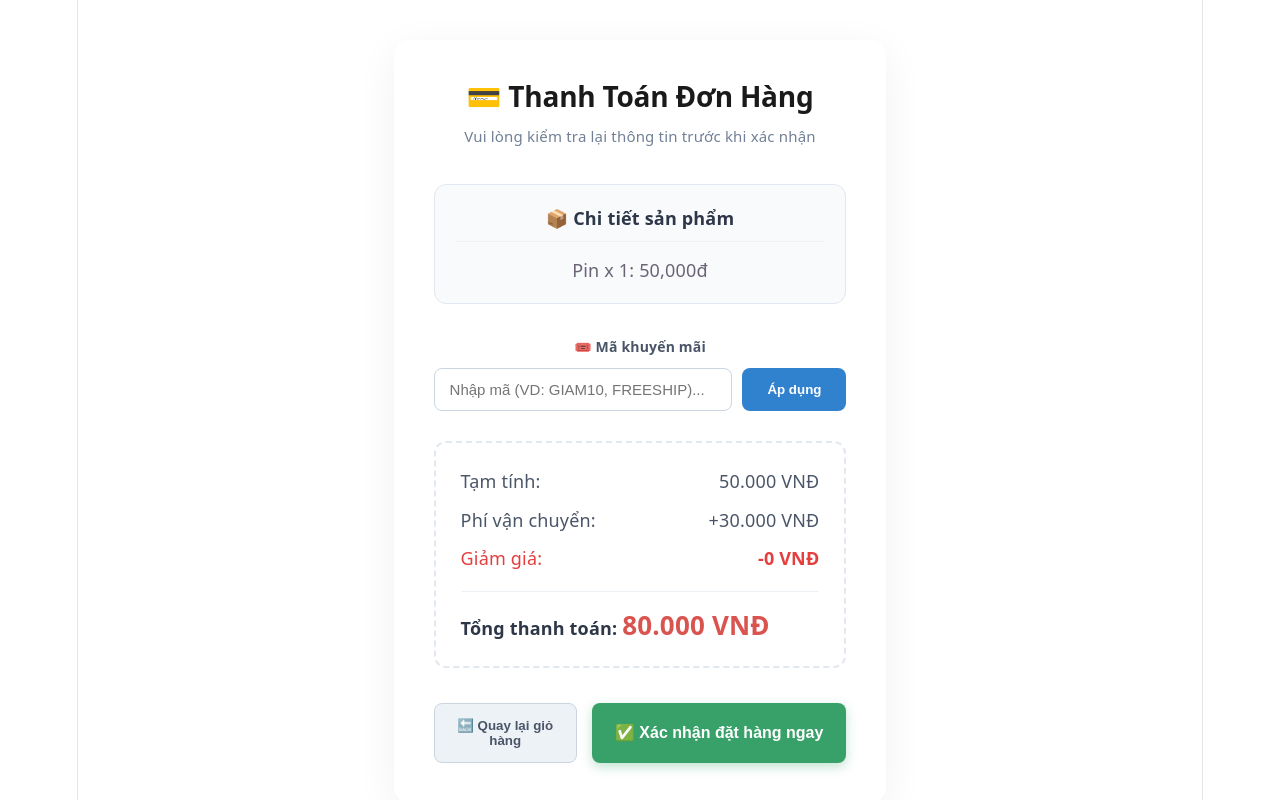
Scenario: Checkout Integration Tests › TC9: Xử lý mã không đủ điều kiện đơn hàng tối thiểu
Type "GIAM10" into the field with placeholder "Nhập mã (VD: GIAM10, FREESHIP)..." at [583, 390], box top-left (434, 368), bottom-right (732, 411)
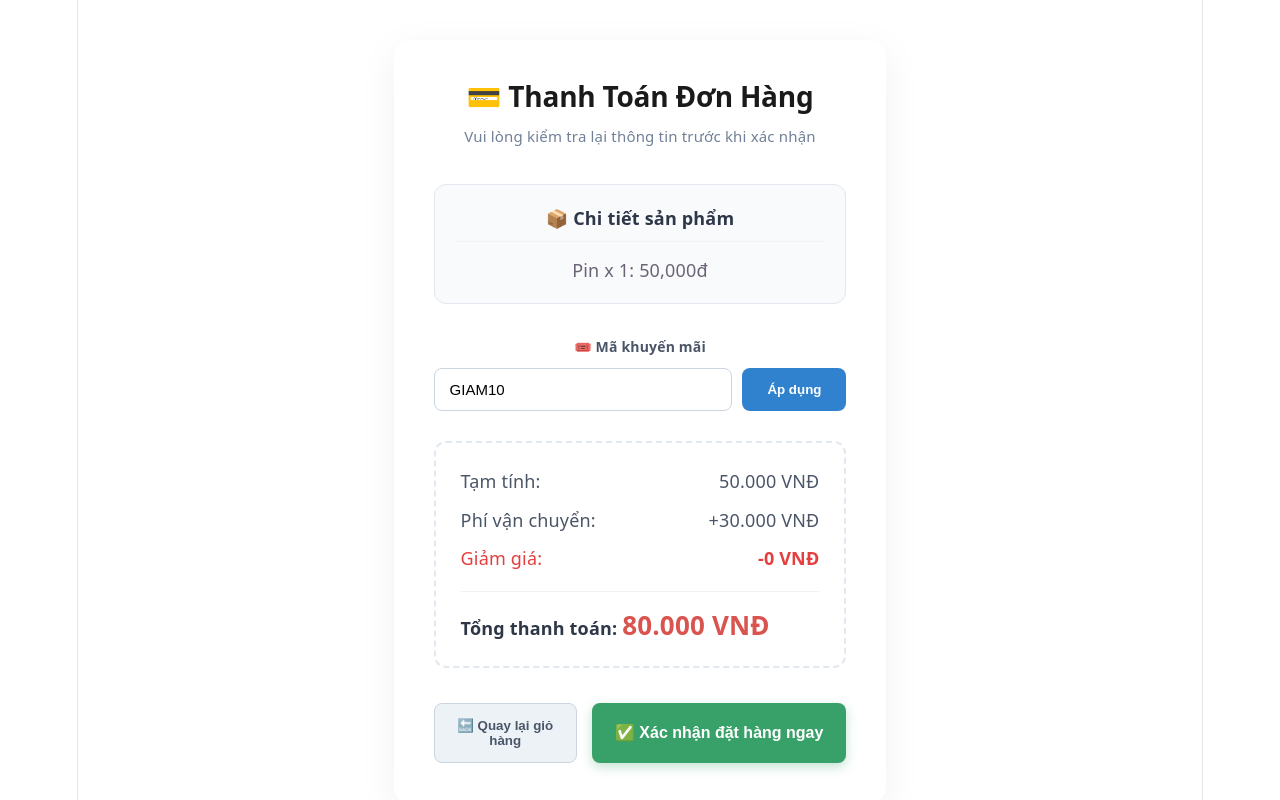
Click the button "Áp dụng" at [794, 390], box top-left (742, 368), bottom-right (846, 411)
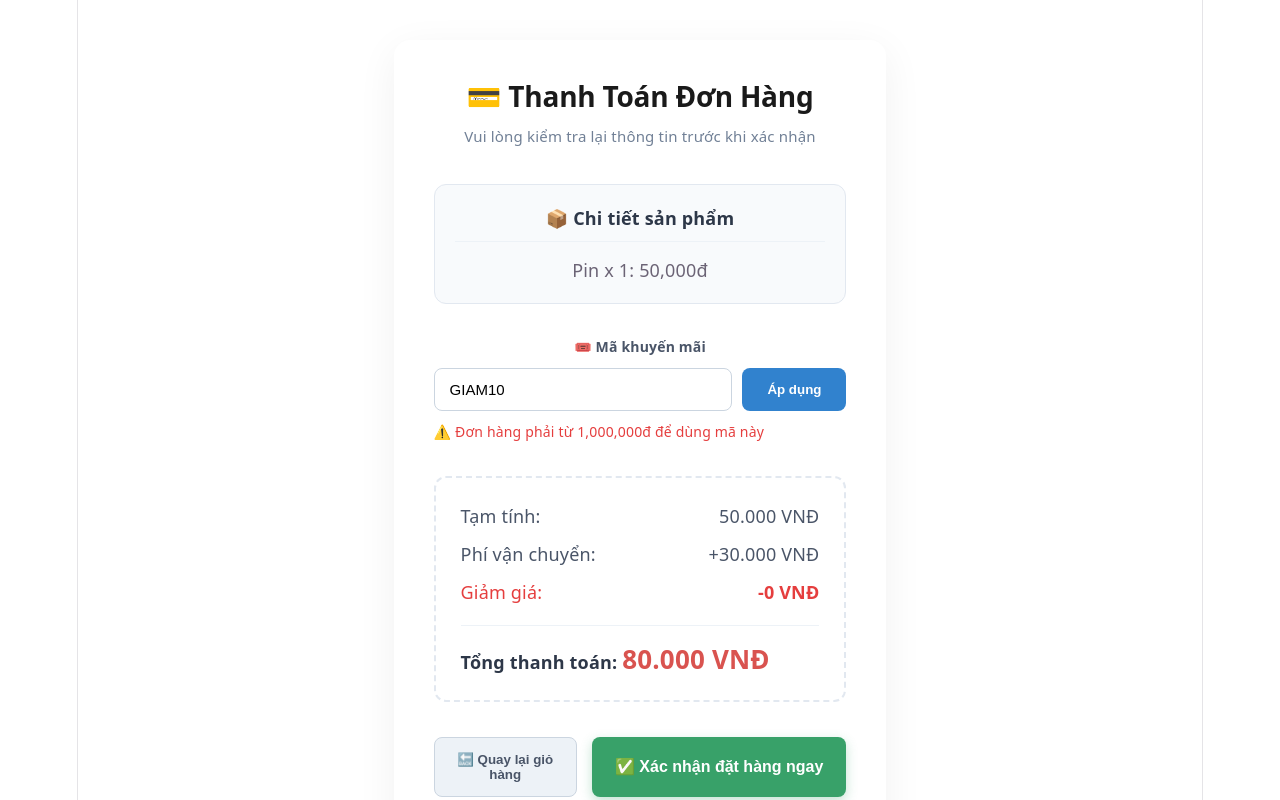
Now the text "⚠️ Đơn hàng phải từ 1,000,000đ để dùng mã này" is shown, box top-left (434, 422), bottom-right (764, 441)
